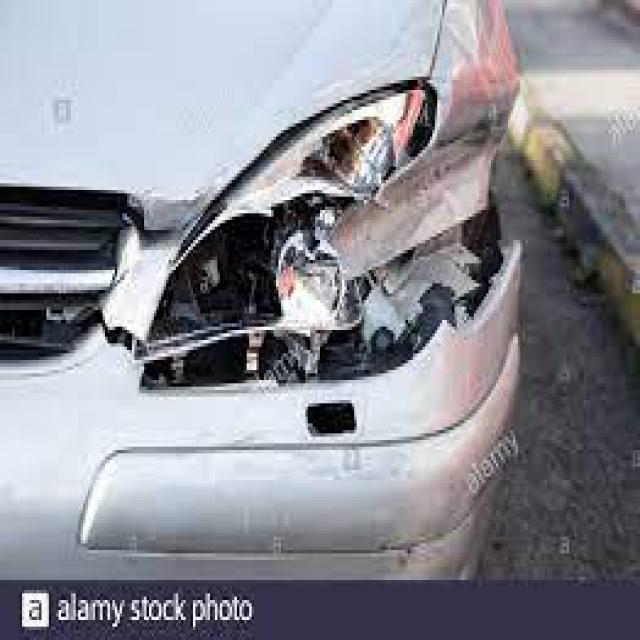Headlight-Damage: (105, 54, 525, 444)
